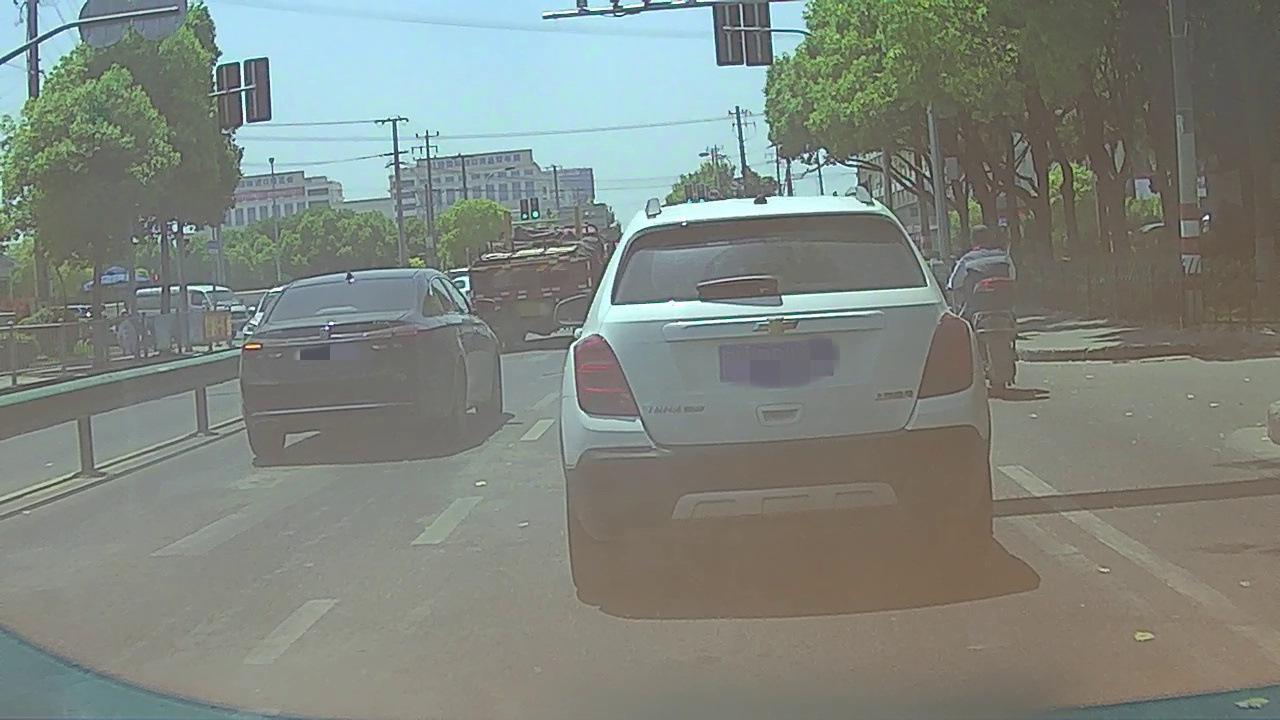traffic_light: (530, 198, 540, 219), (519, 200, 529, 220)
